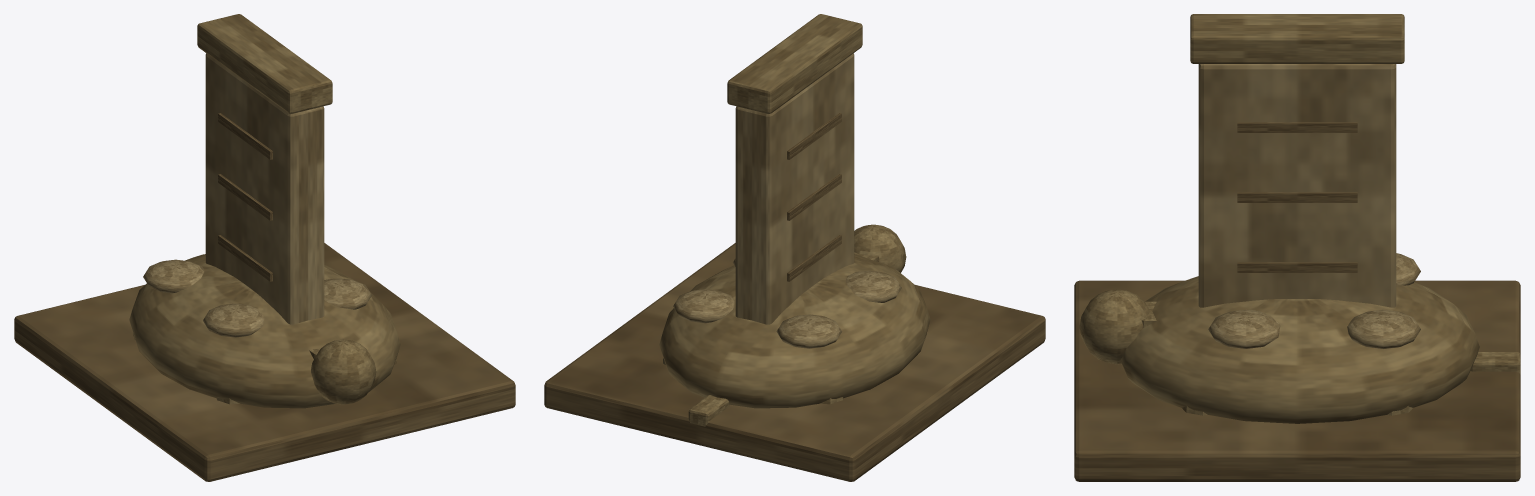
The model's file is stele.glb.
The picture shows the model from 3 angles, left to right: view 1: azimuth 30°, elevation 25°; view 2: azimuth 150°, elevation 25°; view 3: azimuth 270°, elevation 25°; orthographic projection. The views are drawn at different scales.
Parts seen in each view (by area): view 1: plinth, stele, turtle_shell, stele_cap, turtle_head, shell_bump0, shell_bump3, shell_bump1, carve_b0, carve_b1, carve_b2; view 2: plinth, turtle_shell, stele, stele_cap, shell_bump3, turtle_head, shell_bump4, shell_bump0, turtle_tail, carve_b0, carve_b1, carve_b2; view 3: stele, plinth, turtle_shell, stele_cap, turtle_head, shell_bump4, shell_bump1, carve_a0, carve_a1, carve_a2, turtle_tail, shell_bump3.
Part boxes in pixels (x1,y1,x2,y2): plinth: (14, 243, 515, 481); stele: (205, 53, 324, 324); turtle_shell: (129, 254, 400, 408); stele_cap: (197, 14, 332, 113); turtle_head: (311, 339, 376, 404); shell_bump0: (203, 303, 264, 337); shell_bump3: (143, 259, 204, 293); shell_bump1: (324, 278, 371, 309); carve_b0: (218, 113, 272, 159); carve_b1: (218, 174, 272, 220); carve_b2: (218, 235, 272, 281); plinth: (544, 243, 1045, 481); turtle_shell: (659, 254, 930, 408); stele: (735, 53, 854, 324); stele_cap: (727, 14, 862, 113); shell_bump3: (776, 314, 841, 348); turtle_head: (854, 224, 906, 272); shell_bump4: (673, 289, 734, 323); shell_bump0: (845, 270, 901, 302); turtle_tail: (688, 395, 729, 426); carve_b0: (787, 113, 841, 159); carve_b1: (787, 174, 841, 220); carve_b2: (787, 235, 841, 281); stele: (1198, 64, 1396, 307); plinth: (1074, 280, 1520, 481); turtle_shell: (1121, 276, 1479, 423); stele_cap: (1190, 14, 1404, 63); turtle_head: (1079, 289, 1150, 364); shell_bump4: (1347, 309, 1420, 349); shell_bump1: (1208, 309, 1280, 348); carve_a0: (1237, 122, 1357, 132); carve_a1: (1237, 192, 1357, 202); carve_a2: (1237, 262, 1357, 272); turtle_tail: (1470, 352, 1520, 374); shell_bump3: (1396, 253, 1420, 285).
Bounding box in the file's own units: 2.4 × 2.45 × 2.6.
Materials: 3 (3 with a texture image).
